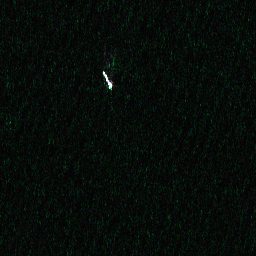ship: (101, 69, 114, 91)
